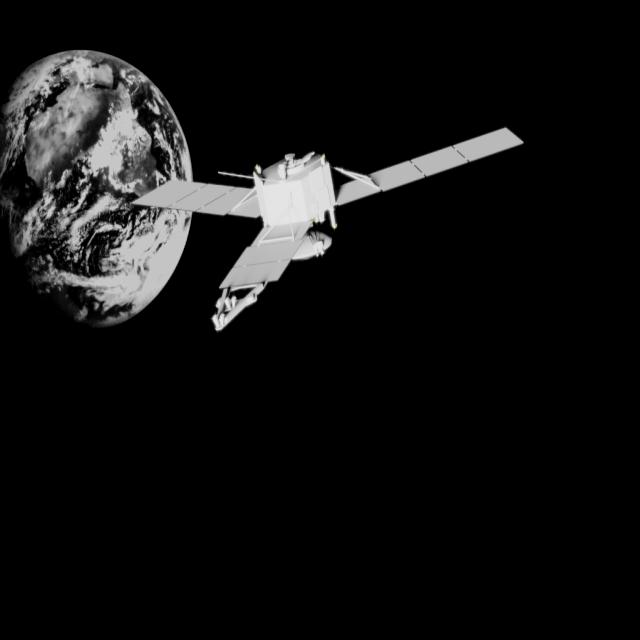satellite: (129, 113, 540, 347)
